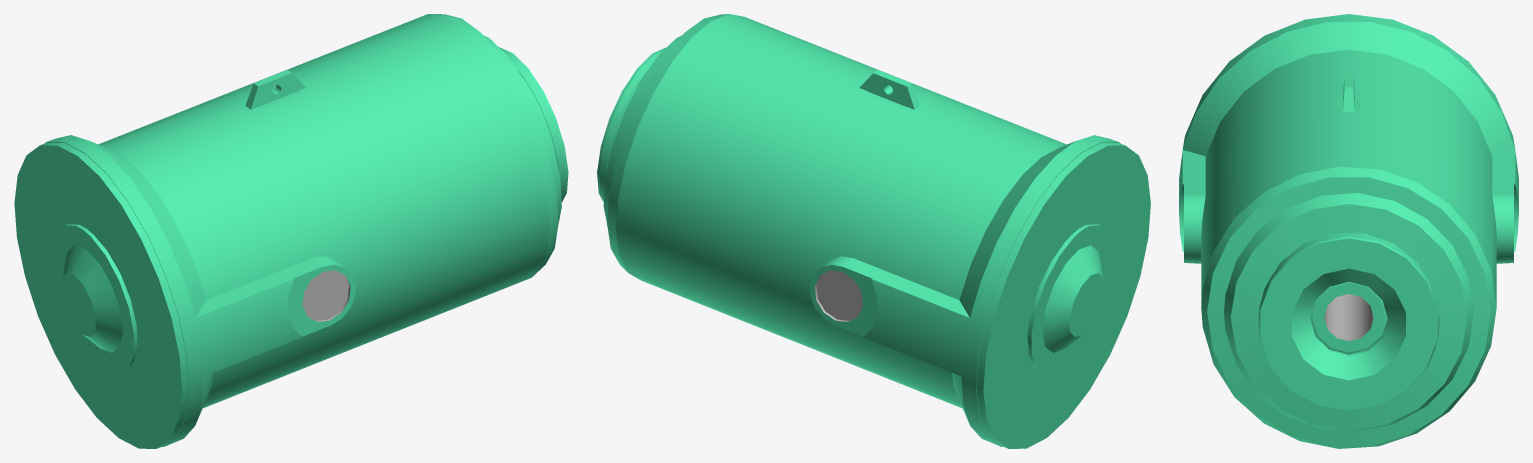
Rendered from LinkD1e.dae.
3 renders of one model, left to right at view 1: azimuth 30°, elevation 25°; view 2: azimuth 150°, elevation 25°; view 3: azimuth 270°, elevation 25°, orthographic. The views are drawn at different scales.
Visible parts, largest first — view 1: LinkD1.001; view 2: LinkD1.001; view 3: LinkD1.001.
Part boxes in pixels (x1,y1,x2,y2): LinkD1.001: (14,14,568,448); LinkD1.001: (597,14,1150,448); LinkD1.001: (1179,14,1518,448).
Bounding box in the file's own units: 0.6703 × 0.412 × 0.4598.
